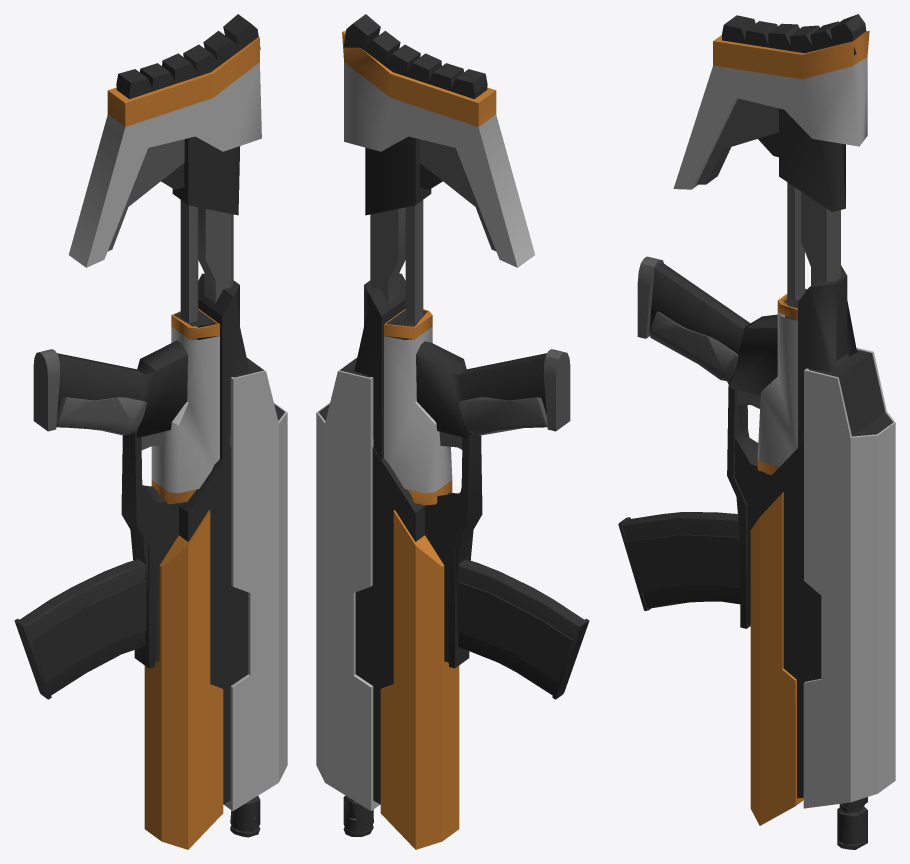
File: qg-smg-2-lod2.glb
The picture shows the model from 3 angles, left to right: view 1: azimuth 30°, elevation 25°; view 2: azimuth 150°, elevation 25°; view 3: azimuth 330°, elevation 25°; orthographic projection.
Visible parts, largest first — view 1: WeaponMesh_qg-smg-2_SMG_2, WeaponMesh_qg-smg-2_Magazine_SMG_2; view 2: WeaponMesh_qg-smg-2_SMG_2, WeaponMesh_qg-smg-2_Magazine_SMG_2; view 3: WeaponMesh_qg-smg-2_SMG_2, WeaponMesh_qg-smg-2_Magazine_SMG_2.
Boxes of the visible parts, box(x1,y1,x2,y2) form: WeaponMesh_qg-smg-2_SMG_2: box(33, 14, 287, 849); WeaponMesh_qg-smg-2_Magazine_SMG_2: box(14, 559, 146, 699); WeaponMesh_qg-smg-2_SMG_2: box(316, 14, 570, 849); WeaponMesh_qg-smg-2_Magazine_SMG_2: box(457, 559, 589, 699); WeaponMesh_qg-smg-2_SMG_2: box(637, 14, 895, 849); WeaponMesh_qg-smg-2_Magazine_SMG_2: box(618, 512, 740, 610).
Bounding box in the file's own units: 0.2613 × 0.78 × 0.0624.
